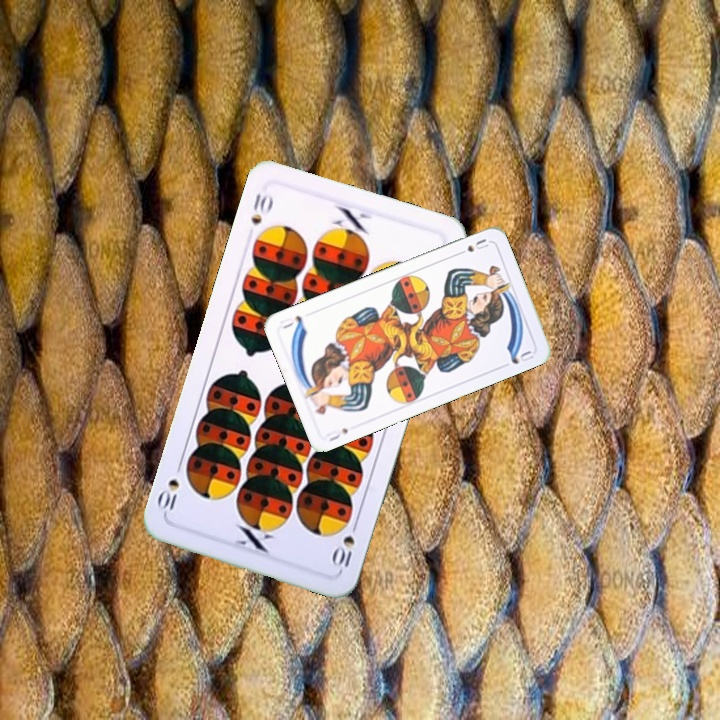S10: (329, 516, 361, 570), (246, 188, 276, 227)
SU: (453, 235, 492, 258), (322, 424, 351, 444)
